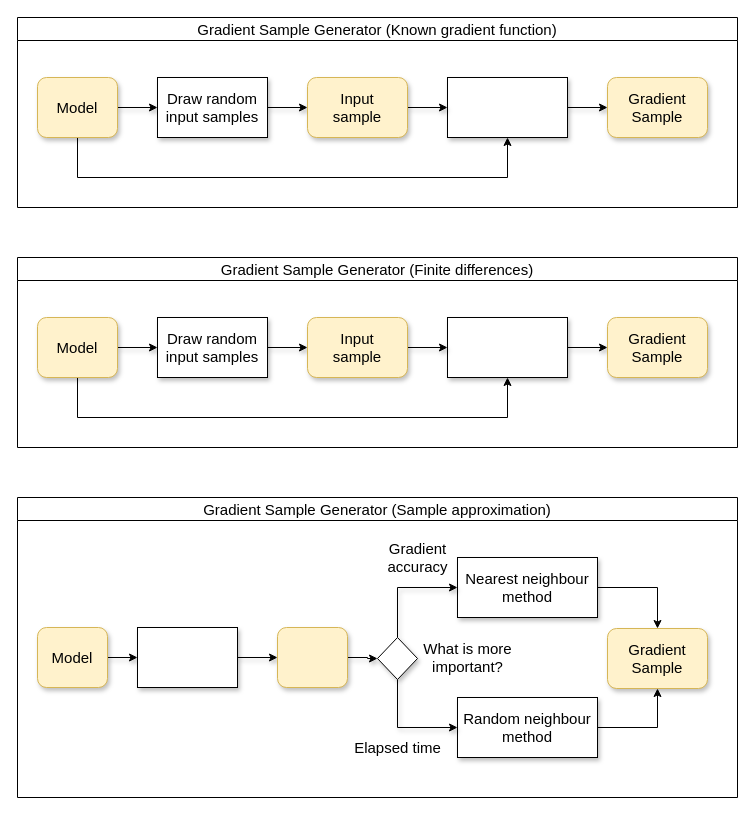
Some shapes in this 755 by 815 pixel diagram are drawn without their labels. Each missing label, with the centre of its shape:
"Calculate gradients using finite differences" belongs at point (508, 348).
"Draw random function samples" belongs at point (188, 658).
"Evaluate gradients at sample points" belongs at point (508, 108).
"Function sample" belongs at point (313, 658).
